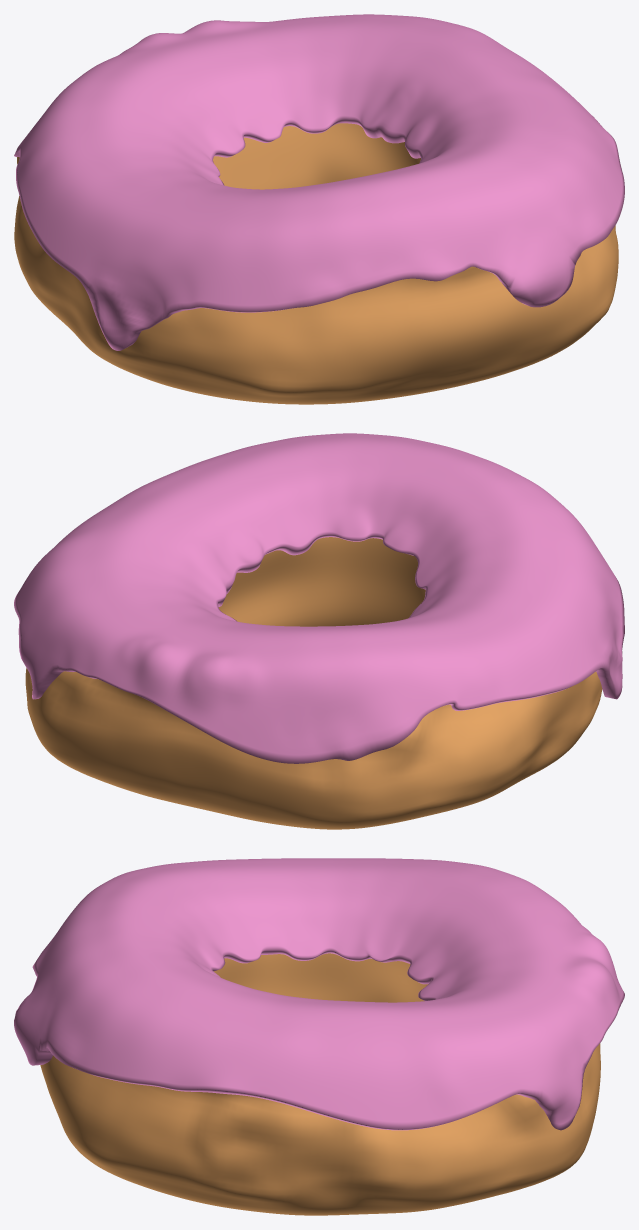
The model's file is donut.glb.
3 renders of one model, top to bottom at view 1: azimuth 30°, elevation 25°; view 2: azimuth 150°, elevation 25°; view 3: azimuth 270°, elevation 25°, orthographic. The views are drawn at different scales.
Parts seen in each view (by area): view 1: Icing, Donut; view 2: Icing, Donut; view 3: Icing, Donut.
Part boxes in pixels (x1,y1,x2,y2): Icing: (14,14,624,350); Donut: (14,123,618,404); Icing: (14,433,624,763); Donut: (25,537,602,829); Icing: (14,858,624,1130); Donut: (40,953,600,1215).
Size of what is drawn, in the model's own units: 0.1446 by 0.0547 by 0.1488.
